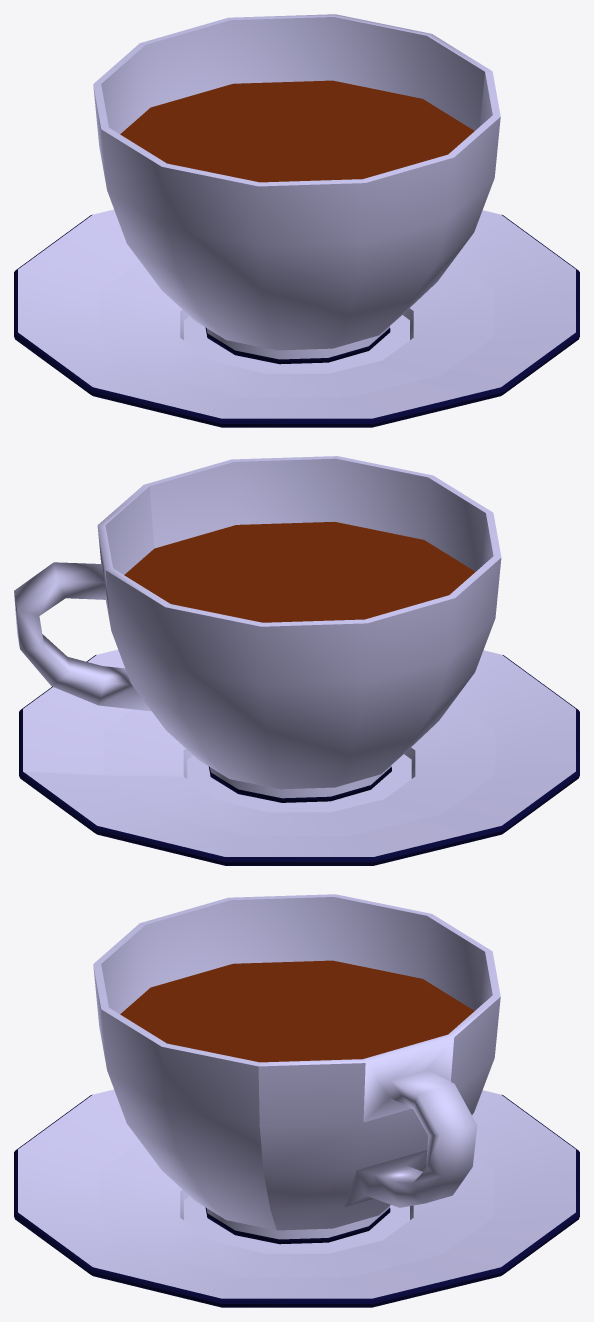
File: Cup.fbx
3 renders of one model, top to bottom at view 1: azimuth 30°, elevation 25°; view 2: azimuth 150°, elevation 25°; view 3: azimuth 270°, elevation 25°, orthographic.
Parts seen in each view (by area): view 1: Cup; view 2: Cup; view 3: Cup.
Part boxes in pixels (x1,y1,x2,y2): Cup: (14,14,579,427); Cup: (14,456,579,865); Cup: (14,894,579,1307).
Size of the model in its own units: 346 by 164 by 346.
